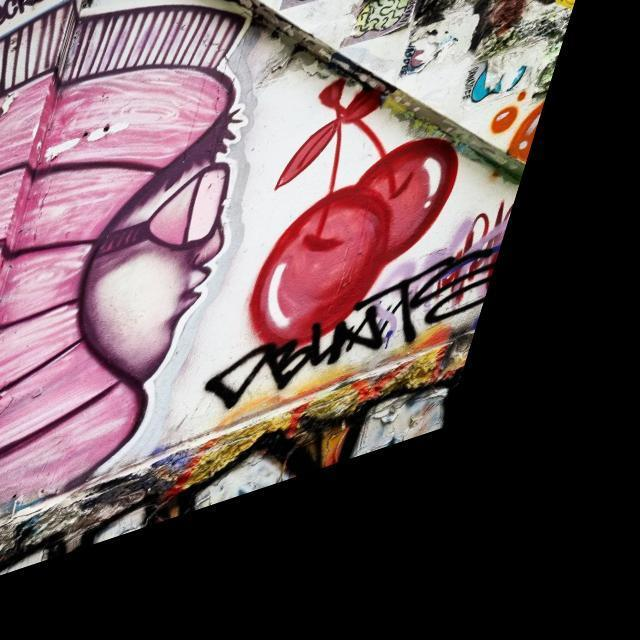-: (0, 1, 321, 554), (236, 56, 515, 392), (222, 294, 523, 437)
